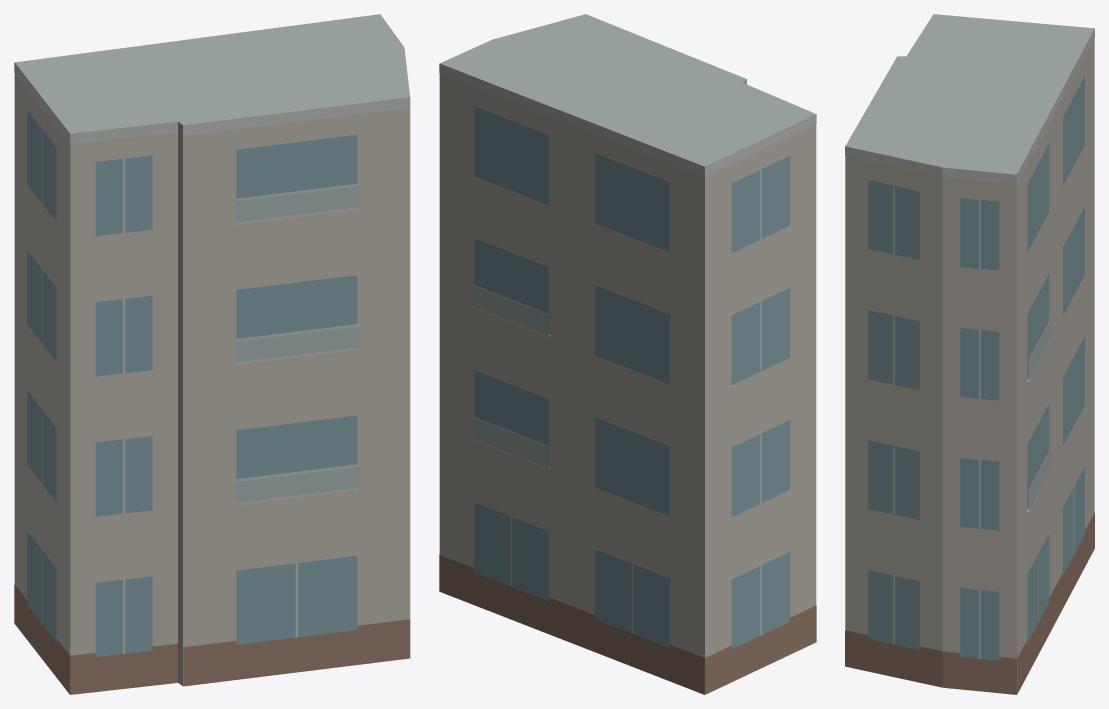
Rendered from survey-upis-32985052.glb.
3 renders of one model, left to right at view 1: azimuth 30°, elevation 25°; view 2: azimuth 150°, elevation 25°; view 3: azimuth 270°, elevation 25°, orthographic. The views are drawn at different scales.
Visible parts, largest first — view 1: survey-upis-32985052.tmp; view 2: survey-upis-32985052.tmp; view 3: survey-upis-32985052.tmp.
Part boxes in pixels (left/top/right/bottom): survey-upis-32985052.tmp: left=14, top=14, right=410, bottom=694; survey-upis-32985052.tmp: left=439, top=14, right=816, bottom=694; survey-upis-32985052.tmp: left=845, top=14, right=1094, bottom=694.
Bounding box in the file's own units: 8.56 × 12.9 × 5.62.
